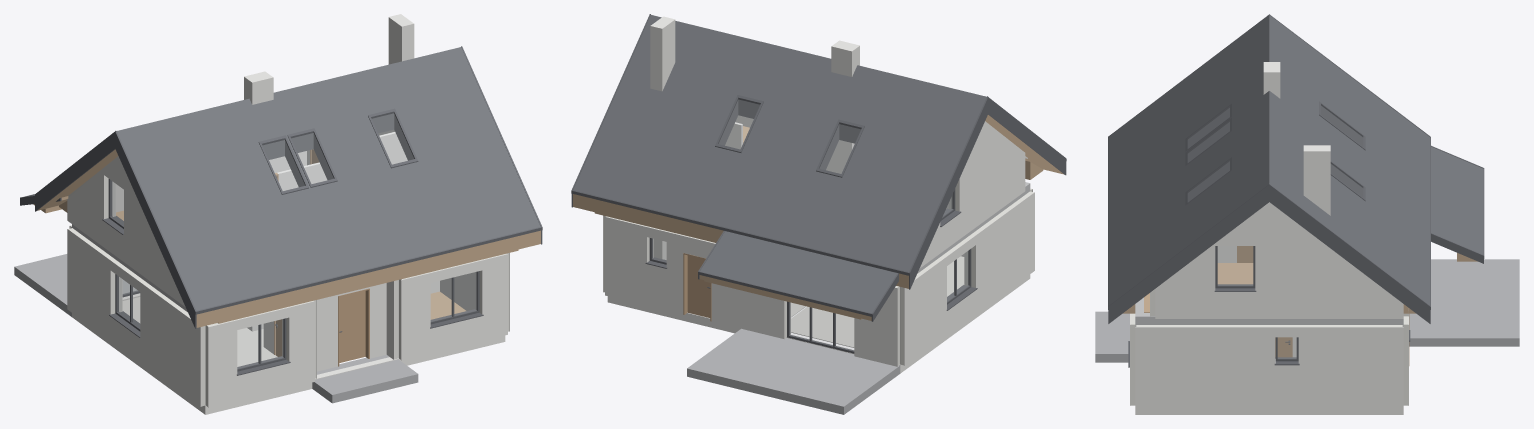
File: amor_woe1092.glb
3 renders of one model, left to right at view 1: azimuth 30°, elevation 25°; view 2: azimuth 150°, elevation 25°; view 3: azimuth 270°, elevation 25°, orthographic. The views are drawn at different scales.
Parts seen in each view (by area): view 1: Dach_rp_main_south, Podbitka_Skos_rp_main_south, Obrobka_Dachu_rp_main_south, Taras_podium_1_9_entrance, w_a_gable_west_L0_full_13, w_p_west_L0_full_22, Cokol_Budynku, Taras_terrace_1_10_north, w_p_west_L0_full_2, w_a_gable_west_L0_full_1, SkrzydloDrzwi_door_dz1_entrance, win_ok4_kuchnia_s_glass (+44 smaller); view 2: Dach_rp_main_north, Taras_terrace_1_10_north, Dach_rp_terrace_canopy_d3, w_a_gable_west_L0_full_13, Obrobka_Dachu_rp_main_north, w_p_north_L0_full_45, w_p_west_L0_full_22, Podbitka_Skos_rp_main_north, Posadzka_parter_1_4_salon_kuchnia, win_ob1_salon_n_glass, Komin_chimney_schiedel_kotlownia, w_p_west_L0_full_2 (+27 smaller); view 3: Dach_rp_main_south, Dach_rp_main_north, w_a_gable_east_L0_full_13, Taras_terrace_1_10_north, w_p_east_L0_full_1, w_p_east_L0_full_21, Dach_rp_terrace_canopy_d3, w_p_east_L0_full_2, Obrobka_Dachu_rp_main_north, Obrobka_Dachu_rp_main_south, w_a_gable_east_L0_full_1, w_p_east_L0_full_22 (+19 smaller).
Boxes of the visible parts, <box> form: Dach_rp_main_south: <box>116,47,540,310</box>; Podbitka_Skos_rp_main_south: <box>196,230,540,327</box>; Obrobka_Dachu_rp_main_south: <box>115,46,542,328</box>; Taras_podium_1_9_entrance: <box>312,354,418,403</box>; w_a_gable_west_L0_full_13: <box>124,169,185,306</box>; w_p_west_L0_full_22: <box>140,292,201,381</box>; Cokol_Budynku: <box>72,293,505,414</box>; Taras_terrace_1_10_north: <box>14,254,137,316</box>; w_p_west_L0_full_2: <box>67,239,110,314</box>; w_a_gable_west_L0_full_1: <box>67,168,104,246</box>; SkrzydloDrzwi_door_dz1_entrance: <box>339,291,365,362</box>; win_ok4_kuchnia_s_glass: <box>238,319,283,368</box>; Dach_rp_main_north: <box>573,15,986,271</box>; Taras_terrace_1_10_north: <box>687,328,900,414</box>; Dach_rp_terrace_canopy_d3: <box>700,231,897,313</box>; w_a_gable_west_L0_full_13: <box>959,121,1025,238</box>; Obrobka_Dachu_rp_main_north: <box>571,14,988,289</box>; w_p_north_L0_full_45: <box>711,283,784,339</box>; w_p_west_L0_full_22: <box>975,202,1034,287</box>; Podbitka_Skos_rp_main_north: <box>573,194,908,288</box>; Posadzka_parter_1_4_salon_kuchnia: <box>791,256,964,347</box>; win_ob1_salon_n_glass: <box>790,303,853,350</box>; Komin_chimney_schiedel_kotlownia: <box>650,16,675,259</box>; w_p_west_L0_full_2: <box>904,266,946,340</box>; Dach_rp_main_south: <box>1108,15,1269,305</box>; Dach_rp_main_north: <box>1269,15,1429,305</box>; w_a_gable_east_L0_full_13: <box>1255,202,1403,318</box>; Taras_terrace_1_10_north: <box>1409,259,1519,346</box>; w_p_east_L0_full_1: <box>1135,364,1275,408</box>; w_p_east_L0_full_21: <box>1298,364,1403,408</box>; Dach_rp_terrace_canopy_d3: <box>1431,146,1483,254</box>; w_p_east_L0_full_2: <box>1135,337,1275,364</box>; Obrobka_Dachu_rp_main_north: <box>1269,14,1430,323</box>; Obrobka_Dachu_rp_main_south: <box>1108,14,1269,323</box>; w_a_gable_east_L0_full_1: <box>1155,243,1215,318</box>; w_p_east_L0_full_22: <box>1298,337,1403,364</box>.
Size of the model in its own units: 12.08 by 8.6 by 12.72.
